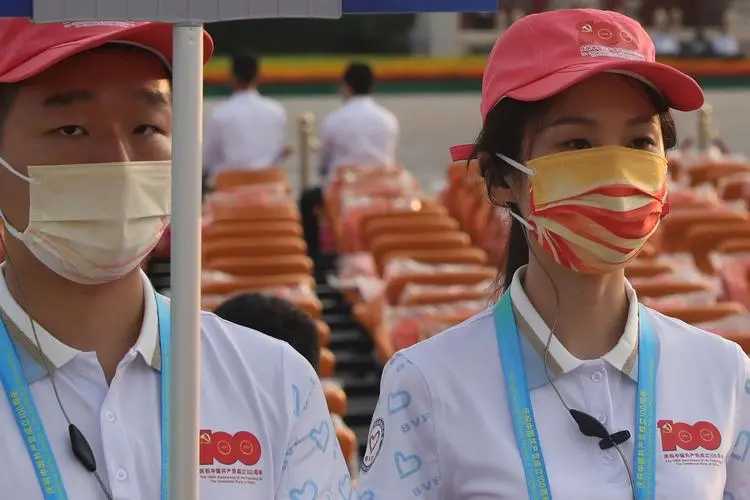withmask: (475, 16, 704, 290), (4, 18, 220, 287)
